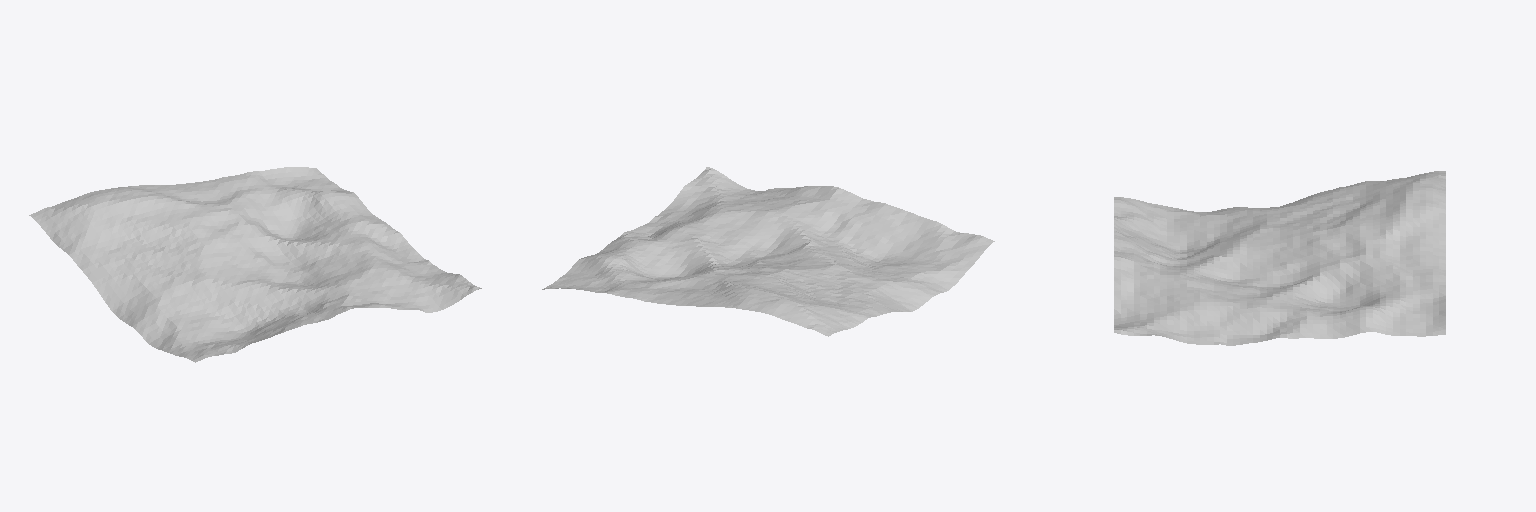
The model's file is terrain_SW.obj.
3 views of the same model, side by side, from view 1: azimuth 30°, elevation 25°; view 2: azimuth 150°, elevation 25°; view 3: azimuth 270°, elevation 25° (orthographic).
Parts seen in each view (by area): view 1: terrain_SW; view 2: terrain_SW; view 3: terrain_SW.
Boxes of the visible parts, box(x1,y1,x2,y2) form: terrain_SW: box(29, 167, 481, 362); terrain_SW: box(542, 167, 994, 336); terrain_SW: box(1114, 171, 1445, 345).
Size of the model in its own units: 50 by 8.71 by 50.